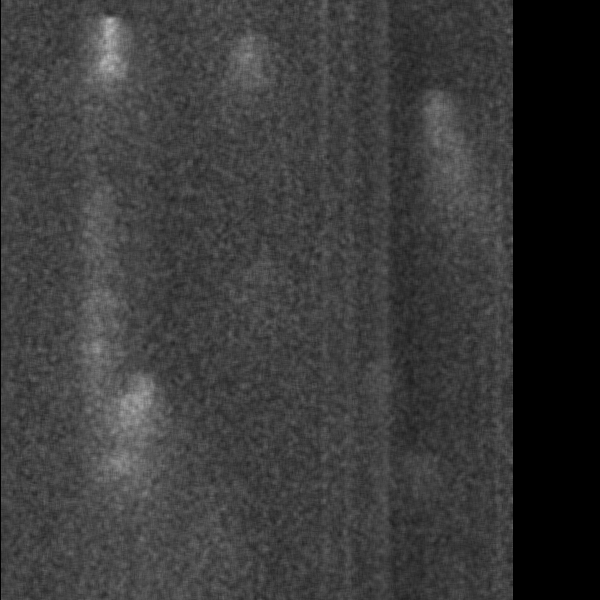spark: (89, 359, 169, 545), (418, 79, 453, 285), (93, 14, 129, 159), (228, 26, 264, 96)
